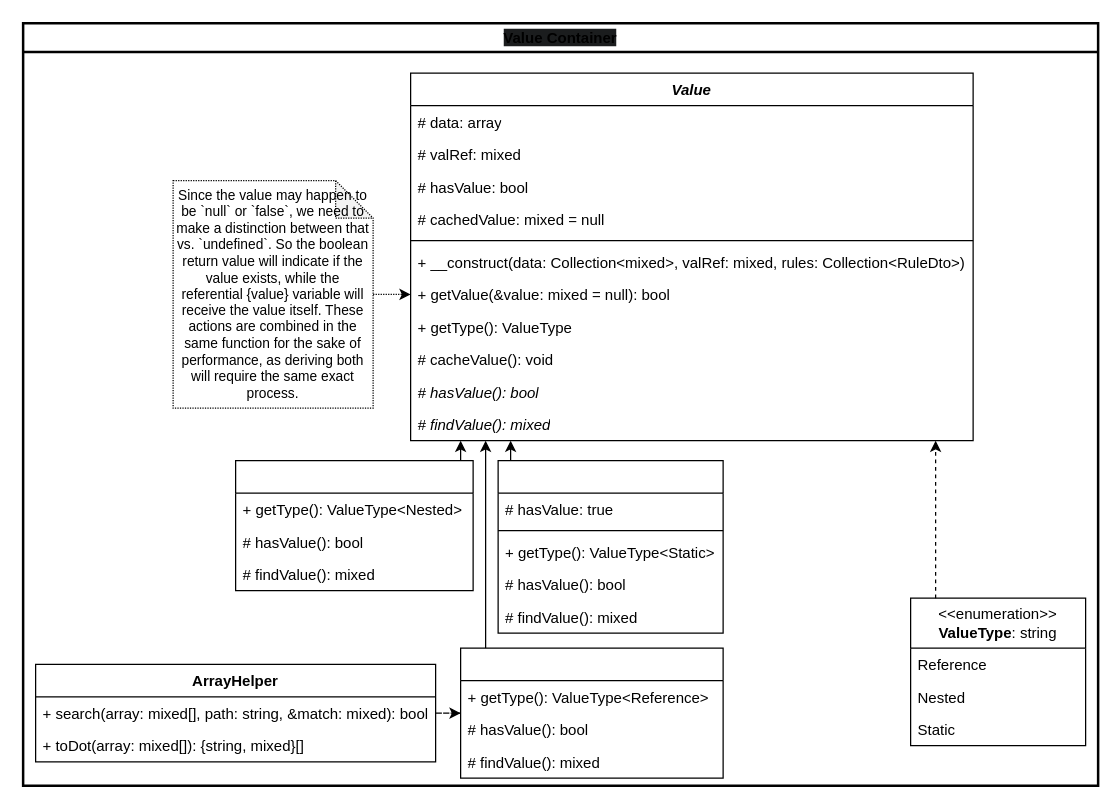
Image size: 1120x808. Some labels were removed from this diagram. Here are the shapes that lost their labels. From the top down, the box of each, then its label:
(234, 459, 473, 591): NestedValue
(497, 459, 723, 633): StaticValue
(459, 647, 723, 778): ReferenceValue
